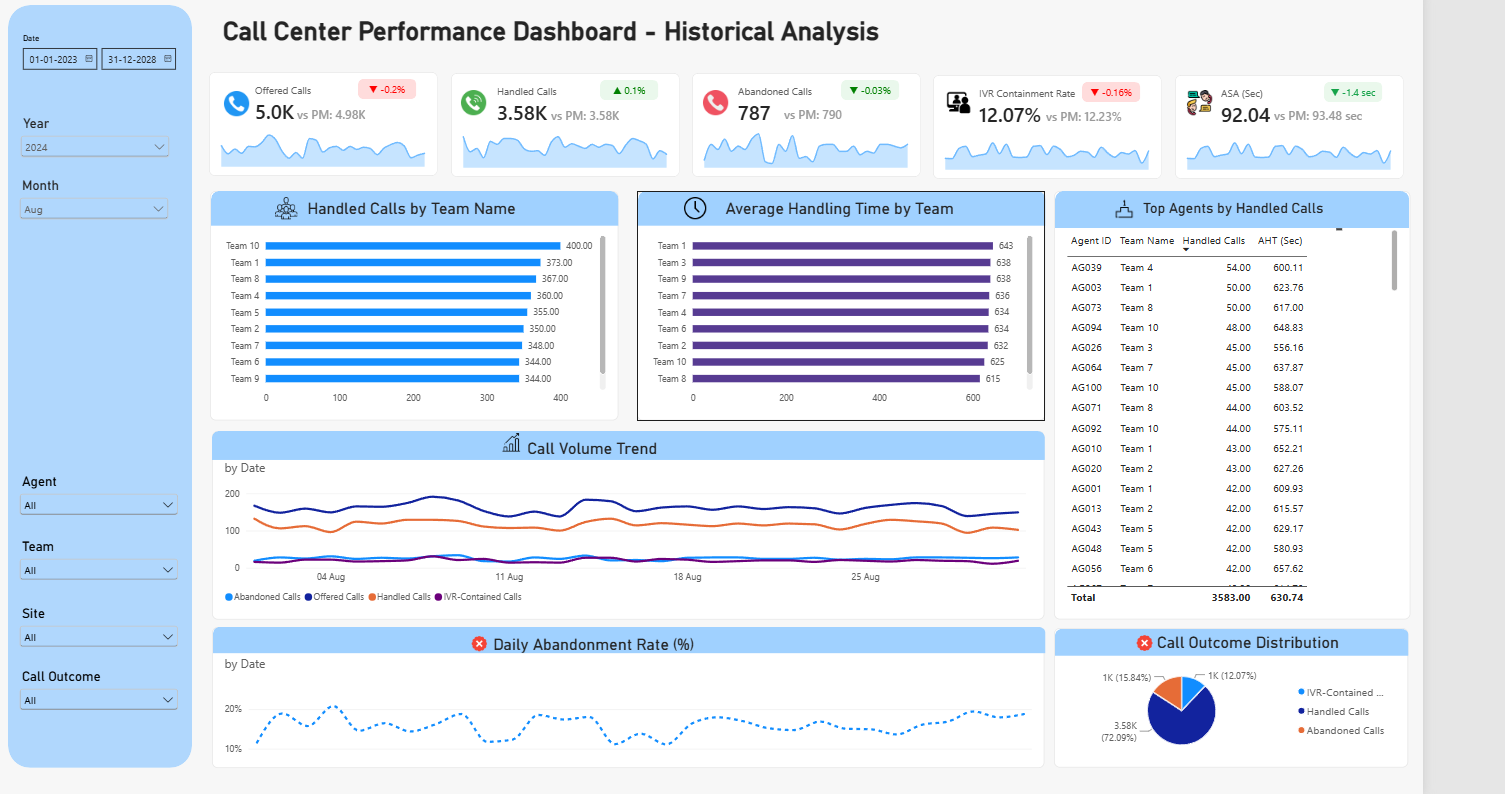

This screenshot's page, from the dashboard's own definition file:
{"tool":"powerbi","page":{"name":"Summary","canvas":[1920,1080],"ordinal":0},"visuals":[{"type":"cardVisual","fields":{"Data":["fact_calls.Offered Calls"]},"box":[285,106.7,308.6,140],"z":0,"group":"g1"},{"type":"group","id":"g1","title":"Group 1","box":[285,106.7,308.6,140],"z":0,"group":"g9"},{"type":"group","id":"g2","title":"Group 1","box":[610,108.3,308.6,140],"z":0,"group":"g7"},{"type":"cardVisual","fields":{"Data":["fact_calls.Handled Calls"]},"box":[610,108.3,308.6,140],"z":0,"group":"g2"},{"type":"cardVisual","fields":{"Data":["fact_calls.Abandoned Calls"]},"box":[935,108.3,308.6,140],"z":0,"group":"g3"},{"type":"group","id":"g3","title":"Group 1","box":[935,108.3,308.6,140],"z":0,"group":"g8"},{"type":"group","id":"g4","title":"Group 1","box":[1260,110,308.6,140],"z":0,"group":"g10"},{"type":"cardVisual","fields":{"Data":["fact_calls.IVR Containment Rate"]},"box":[1260,110,308.6,140],"z":0,"group":"g4"},{"type":"cardVisual","fields":{"Data":["fact_calls.ASA (Sec)"]},"box":[1585,110,308.6,140],"z":0,"group":"g5"},{"type":"group","id":"g5","title":"Group 1","box":[1585,110,308.6,140],"z":0,"group":"g6"},{"type":"textbox","title":"               Handled Calls by Team Name","box":[354.3,270.2,385.6,40.4],"z":0,"group":"g15"},{"type":"textbox","title":"Average Handling Time by Team","box":[929.5,270.3,385.7,40],"z":0,"group":"g16"},{"type":"textbox","title":"Top Agents by Handled Calls","box":[1494.8,271.2,314.3,48.7],"z":0,"group":"g17"},{"type":"textbox","title":"Call Volume Trend","box":[424.5,592.3,732,33.6],"z":0,"group":"g18"},{"type":"lineChart","fields":{"Category":["Date Table.Date.Variation.Date Hierarchy.Day"],"Y":["fact_calls.Abandonment Rate"]},"box":[288.6,854.3,1121.4,190],"z":0},{"type":"textbox","title":"Daily Abandonment Rate (%)","box":[427.5,856.1,730,32.9],"z":0,"group":"g20"},{"type":"textbox","title":"Abandon Rate MTD","box":[1490.2,857.2,302.8,33.5],"z":0,"group":"g19"},{"type":"shape","box":[485,116.7,78.6,27.1],"z":1000,"group":"g1"},{"type":"shape","box":[810,118.3,78.6,27.1],"z":1000,"group":"g2"},{"type":"shape","box":[1135,118.3,78.6,27.1],"z":1000,"group":"g3"},{"type":"shape","box":[1460,120,78.6,27.1],"z":1000,"group":"g4"},{"type":"shape","box":[1785,120,78.6,27.1],"z":1000,"group":"g5"},{"type":"areaChart","fields":{"Category":["Date Table.Date.Variation.Date Hierarchy.Year"],"Y":["fact_calls.Offered Calls"]},"box":[275,163.8,325.7,87.1],"z":1000,"group":"g9"},{"type":"areaChart","fields":{"Category":["Date Table.Date.Variation.Date Hierarchy.Year"],"Y":["fact_calls.Handled Calls"]},"box":[600,165.4,325.7,87.1],"z":1000,"group":"g7"},{"type":"areaChart","fields":{"Category":["Date Table.Date.Variation.Date Hierarchy.Year"],"Y":["fact_calls.Abandoned Calls"]},"box":[925,165.4,325.7,87.1],"z":1000,"group":"g8"},{"type":"areaChart","fields":{"Category":["Date Table.Date.Variation.Date Hierarchy.Year"],"Y":["fact_calls.IVR Containment Rate"]},"box":[1250,167.1,325.7,87.1],"z":1000,"group":"g10"},{"type":"areaChart","fields":{"Category":["Date Table.Date.Variation.Date Hierarchy.Year"],"Y":["fact_calls.IVR Containment Rate"]},"box":[1575,167.1,325.7,87.1],"z":1000,"group":"g6"},{"type":"image","box":[341.8,275.4,91.9,30.1],"z":1000,"group":"g15"},{"type":"image","box":[892.4,276,91.4,30],"z":1000,"group":"g16"},{"type":"lineChart","fields":{"Category":["Date Table.Date.Variation.Date Hierarchy.Day"],"Y":["fact_calls.Abandoned Calls","fact_calls.Offered Calls","fact_calls.Handled Calls","fact_calls.IVR-Contained Calls"]},"box":[288.6,590,1121.4,254.3],"z":1000},{"type":"image","box":[601.1,592.3,180.6,24.7],"z":1000,"group":"g18"},{"type":"textbox","title":"Call Outcome Distribution","box":[1521.2,853.2,303,33.7],"z":1000,"group":"g19"},{"type":"image","box":[556.8,862.8,184.5,25.6],"z":1000,"group":"g20"},{"type":"group","id":"g6","title":"Group 2","box":[1575,110,325,143.3],"z":2000},{"type":"image","box":[1504.4,861.5,76.8,26.9],"z":2000,"group":"g19"},{"type":"group","id":"g7","title":"Group 2","box":[600,108.3,325,145],"z":3000},{"type":"image","box":[1476.2,271.2,77.1,40],"z":3000,"group":"g17"},{"type":"group","id":"g8","title":"Group 2","box":[925,108.3,325,143.3],"z":4000},{"type":"group","id":"g9","title":"Group 2","box":[275,106.7,325.7,144.3],"z":5000},{"type":"group","id":"g10","title":"Group 2","box":[1250,110,325,143.3],"z":6000},{"type":"image","box":[945.7,130,41.4,34.3],"z":7000},{"type":"image","box":[300,131.4,41.4,34.3],"z":8000},{"type":"shape","box":[13.5,16.2,247.8,1027.5],"z":9000,"group":"g29"},{"type":"image","box":[620,130,41.4,34.3],"z":9000},{"type":"image","box":[1272.9,130,41.4,34.3],"z":10000},{"type":"image","box":[1597.1,130,41.4,34.3],"z":11000},{"type":"textbox","title":"Call Center Performance Dashboard - Historical Analysis","box":[246.4,16.2,996.5,75.4],"z":12000},{"type":"group","id":"g11","title":"Group 5","box":[285.7,267.1,550,308.6],"z":13000},{"type":"clusteredBarChart","title":" ","fields":{"Category":["dim_agents.team_name"],"Y":["fact_calls.Handled Calls"]},"box":[285.7,267.1,549.8,308.7],"z":14000,"group":"g11"},{"type":"clusteredBarChart","title":" ","fields":{"Category":["dim_agents.team_name"],"Y":["fact_calls.Average Handling Time (Sec)"]},"box":[860,267.1,549.8,308.7],"z":14000,"group":"g12"},{"type":"group","id":"g12","title":"Group 5","box":[860,267.1,549.8,308.7],"z":14000},{"type":"tableEx","title":" ","fields":{"Values":["dim_agents.agent_id","dim_agents.team_name","fact_calls.Handled Calls","fact_calls.Average Handling Time (Sec)"]},"box":[1421.4,267.3,480,577.1],"z":14000,"group":"g14"},{"type":"group","id":"g13","title":"Group 5","box":[288.3,590.1,1121.6,39.3],"z":15000},{"type":"group","id":"g14","title":"Group 5","box":[1421.4,266.9,480,577.5],"z":16000},{"type":"shape","box":[1422.2,266.9,477.1,50],"z":16000,"group":"g21"},{"type":"shape","box":[286.6,267.4,548.9,46.9],"z":16000,"group":"g22"},{"type":"shape","box":[860.9,267.4,548.9,46.9],"z":16000,"group":"g23"},{"type":"shape","box":[288.3,590.1,1121.6,39.3],"z":16000,"group":"g24"},{"type":"shape","box":[290.1,854,1121.4,35.7],"z":16000,"group":"g26"},{"type":"shape","box":[1422.7,855.5,476.4,36.4],"z":16000,"group":"g25"},{"type":"group","id":"g15","title":"Group 3","box":[341.8,270.2,398.4,40.3],"z":16500,"group":"g22"},{"type":"group","id":"g16","title":"Group 3","box":[892.4,270.3,422.9,40],"z":16500,"group":"g23"},{"type":"group","id":"g17","title":"Group 3","box":[1476.2,271.2,332.9,48.7],"z":16500,"group":"g21"},{"type":"group","id":"g18","title":"Group 3","box":[424.5,592.3,732,33.6],"z":16500,"group":"g24"},{"type":"group","id":"g19","title":"Group 3","box":[1490.2,853.2,334,37.5],"z":16500,"group":"g25"},{"type":"group","id":"g20","title":"Group 3","box":[427.5,856.1,730,32.9],"z":16500,"group":"g26"},{"type":"group","id":"g21","title":"Group 4","box":[1422.2,266.9,477.1,53],"z":16501,"group":"g14"},{"type":"group","id":"g22","title":"Group 4","box":[286.6,267.4,548.9,46.9],"z":16501,"group":"g11"},{"type":"group","id":"g23","title":"Group 4","box":[860.9,267.4,548.9,46.9],"z":16501,"group":"g12"},{"type":"group","id":"g24","title":"Group 4","box":[288.3,590.1,1121.6,39.3],"z":16501,"group":"g13"},{"type":"group","id":"g25","title":"Group 4","box":[1422.7,853.2,476.4,38.6],"z":16501,"group":"g28"},{"type":"group","id":"g26","title":"Group 4","box":[290.1,854,1121.4,35.7],"z":16501,"group":"g27"},{"type":"group","id":"g27","title":"Group 5","box":[290.1,854,1121.4,35.7],"z":17000},{"type":"slicer","fields":{"Values":["dim_agents.agent_id"]},"box":[24.3,645.8,222.9,55.7],"z":18000,"group":"g29"},{"type":"pieChart","title":"Ratio of Calls ","fields":{"Y":["fact_calls.IVR-Contained Calls","fact_calls.Handled Calls","fact_calls.Abandoned Calls"]},"box":[1422,854.9,476.8,187.6],"z":18000},{"type":"group","id":"g28","title":"Group 5","box":[1422.7,853.2,476.4,38.6],"z":19000},{"type":"slicer","fields":{"Values":["fact_calls.call_outcome"]},"box":[24.3,908.6,222.9,55.7],"z":19000,"group":"g29"},{"type":"group","id":"g29","title":"Group 6","box":[13.5,16.2,247.8,1027.5],"z":20000},{"type":"slicer","fields":{"Values":["dim_agents.site_name"]},"box":[24.3,824.3,222.9,55.7],"z":20000,"group":"g29"},{"type":"cardVisual","fields":{"Data":["fact_calls.Offered Calls PM Label"]},"box":[386.9,144.2,160.4,36.8],"z":20001},{"type":"cardVisual","fields":{"Data":["fact_calls.Handled Calls PM Label"]},"box":[728.3,147.1,160.4,35.3],"z":20002},{"type":"cardVisual","fields":{"Data":["fact_calls.Abandoned Calls PM Label"]},"box":[1041.7,145.7,160.4,35.3],"z":20003},{"type":"cardVisual","fields":{"Data":["fact_calls.IVR Containment Rate PM Label"]},"box":[1394.8,148.6,160.4,35.3],"z":20004},{"type":"cardVisual","fields":{"Data":["fact_calls.ASA PM Label"]},"box":[1702.3,147.1,160.4,35.3],"z":20005},{"type":"slicer","fields":{"Values":["dim_agents.team_name"]},"box":[24.3,734.3,222.9,55.7],"z":21000,"group":"g29"},{"type":"slicer","fields":{"Values":["Date Table.Date"]},"box":[25.7,55.8,222.9,74.3],"z":22000,"group":"g29"},{"type":"slicer","fields":{"Values":["Date Table.Year"]},"box":[25.7,164.3,210,71.4],"z":23000,"group":"g29"},{"type":"slicer","fields":{"Values":["Date Table.Month"]},"box":[24.3,247.2,210,71.4],"z":24000,"group":"g29"}]}

Visuals, with their boxes on the page's 1920x1080 design canvas (x1, y1, x2, y2). These are canvas units, not pixel positions in the 1505x794 screenshot, which may show the page scaled, cropped or inside an application window:
cardVisual - fact_calls.Offered Calls: <bbox>285, 107, 594, 247</bbox>
"Group 1" group: <bbox>285, 107, 594, 247</bbox>
"Group 1" group: <bbox>610, 108, 919, 248</bbox>
cardVisual - fact_calls.Handled Calls: <bbox>610, 108, 919, 248</bbox>
cardVisual - fact_calls.Abandoned Calls: <bbox>935, 108, 1244, 248</bbox>
"Group 1" group: <bbox>935, 108, 1244, 248</bbox>
"Group 1" group: <bbox>1260, 110, 1569, 250</bbox>
cardVisual - fact_calls.IVR Containment Rate: <bbox>1260, 110, 1569, 250</bbox>
cardVisual - fact_calls.ASA (Sec): <bbox>1585, 110, 1894, 250</bbox>
"Group 1" group: <bbox>1585, 110, 1894, 250</bbox>
"               Handled Calls by Team Name" textbox: <bbox>354, 270, 740, 311</bbox>
"Average Handling Time by Team" textbox: <bbox>930, 270, 1315, 310</bbox>
"Top Agents by Handled Calls" textbox: <bbox>1495, 271, 1809, 320</bbox>
"Call Volume Trend" textbox: <bbox>424, 592, 1156, 626</bbox>
lineChart - Date Table.Date.Variation.Date Hierarchy.Day x fact_calls.Abandonment Rate: <bbox>289, 854, 1410, 1044</bbox>
"Daily Abandonment Rate (%)" textbox: <bbox>428, 856, 1158, 889</bbox>
"Abandon Rate MTD" textbox: <bbox>1490, 857, 1793, 891</bbox>
shape: <bbox>485, 117, 564, 144</bbox>
shape: <bbox>810, 118, 889, 145</bbox>
shape: <bbox>1135, 118, 1214, 145</bbox>
shape: <bbox>1460, 120, 1539, 147</bbox>
shape: <bbox>1785, 120, 1864, 147</bbox>
areaChart - Date Table.Date.Variation.Date Hierarchy.Year x fact_calls.Offered Calls: <bbox>275, 164, 601, 251</bbox>
areaChart - Date Table.Date.Variation.Date Hierarchy.Year x fact_calls.Handled Calls: <bbox>600, 165, 926, 252</bbox>
areaChart - Date Table.Date.Variation.Date Hierarchy.Year x fact_calls.Abandoned Calls: <bbox>925, 165, 1251, 252</bbox>
areaChart - Date Table.Date.Variation.Date Hierarchy.Year x fact_calls.IVR Containment Rate: <bbox>1250, 167, 1576, 254</bbox>
areaChart - Date Table.Date.Variation.Date Hierarchy.Year x fact_calls.IVR Containment Rate: <bbox>1575, 167, 1901, 254</bbox>
image: <bbox>342, 275, 434, 306</bbox>
image: <bbox>892, 276, 984, 306</bbox>
lineChart - Date Table.Date.Variation.Date Hierarchy.Day x fact_calls.Abandoned Calls: <bbox>289, 590, 1410, 844</bbox>
image: <bbox>601, 592, 782, 617</bbox>
"Call Outcome Distribution" textbox: <bbox>1521, 853, 1824, 887</bbox>
image: <bbox>557, 863, 741, 888</bbox>
"Group 2" group: <bbox>1575, 110, 1900, 253</bbox>
image: <bbox>1504, 862, 1581, 888</bbox>
"Group 2" group: <bbox>600, 108, 925, 253</bbox>
image: <bbox>1476, 271, 1553, 311</bbox>
"Group 2" group: <bbox>925, 108, 1250, 252</bbox>
"Group 2" group: <bbox>275, 107, 601, 251</bbox>
"Group 2" group: <bbox>1250, 110, 1575, 253</bbox>
image: <bbox>946, 130, 987, 164</bbox>
image: <bbox>300, 131, 341, 166</bbox>
shape: <bbox>14, 16, 261, 1044</bbox>
image: <bbox>620, 130, 661, 164</bbox>
image: <bbox>1273, 130, 1314, 164</bbox>
image: <bbox>1597, 130, 1638, 164</bbox>
"Call Center Performance Dashboard - Historical Analysis" textbox: <bbox>246, 16, 1243, 92</bbox>
"Group 5" group: <bbox>286, 267, 836, 576</bbox>
" " clusteredBarChart: <bbox>286, 267, 836, 576</bbox>
" " clusteredBarChart: <bbox>860, 267, 1410, 576</bbox>
"Group 5" group: <bbox>860, 267, 1410, 576</bbox>
" " tableEx: <bbox>1421, 267, 1901, 844</bbox>
"Group 5" group: <bbox>288, 590, 1410, 629</bbox>
"Group 5" group: <bbox>1421, 267, 1901, 844</bbox>
shape: <bbox>1422, 267, 1899, 317</bbox>
shape: <bbox>287, 267, 836, 314</bbox>
shape: <bbox>861, 267, 1410, 314</bbox>
shape: <bbox>288, 590, 1410, 629</bbox>
shape: <bbox>290, 854, 1412, 890</bbox>
shape: <bbox>1423, 856, 1899, 892</bbox>
"Group 3" group: <bbox>342, 270, 740, 310</bbox>
"Group 3" group: <bbox>892, 270, 1315, 310</bbox>
"Group 3" group: <bbox>1476, 271, 1809, 320</bbox>
"Group 3" group: <bbox>424, 592, 1156, 626</bbox>
"Group 3" group: <bbox>1490, 853, 1824, 891</bbox>
"Group 3" group: <bbox>428, 856, 1158, 889</bbox>
"Group 4" group: <bbox>1422, 267, 1899, 320</bbox>
"Group 4" group: <bbox>287, 267, 836, 314</bbox>
"Group 4" group: <bbox>861, 267, 1410, 314</bbox>
"Group 4" group: <bbox>288, 590, 1410, 629</bbox>
"Group 4" group: <bbox>1423, 853, 1899, 892</bbox>
"Group 4" group: <bbox>290, 854, 1412, 890</bbox>
"Group 5" group: <bbox>290, 854, 1412, 890</bbox>
slicer - dim_agents.agent_id: <bbox>24, 646, 247, 702</bbox>
"Ratio of Calls " pieChart: <bbox>1422, 855, 1899, 1042</bbox>
"Group 5" group: <bbox>1423, 853, 1899, 892</bbox>
slicer - fact_calls.call_outcome: <bbox>24, 909, 247, 964</bbox>
"Group 6" group: <bbox>14, 16, 261, 1044</bbox>
slicer - dim_agents.site_name: <bbox>24, 824, 247, 880</bbox>
cardVisual - fact_calls.Offered Calls PM Label: <bbox>387, 144, 547, 181</bbox>
cardVisual - fact_calls.Handled Calls PM Label: <bbox>728, 147, 889, 182</bbox>
cardVisual - fact_calls.Abandoned Calls PM Label: <bbox>1042, 146, 1202, 181</bbox>
cardVisual - fact_calls.IVR Containment Rate PM Label: <bbox>1395, 149, 1555, 184</bbox>
cardVisual - fact_calls.ASA PM Label: <bbox>1702, 147, 1863, 182</bbox>
slicer - dim_agents.team_name: <bbox>24, 734, 247, 790</bbox>
slicer - Date Table.Date: <bbox>26, 56, 249, 130</bbox>
slicer - Date Table.Year: <bbox>26, 164, 236, 236</bbox>
slicer - Date Table.Month: <bbox>24, 247, 234, 319</bbox>
